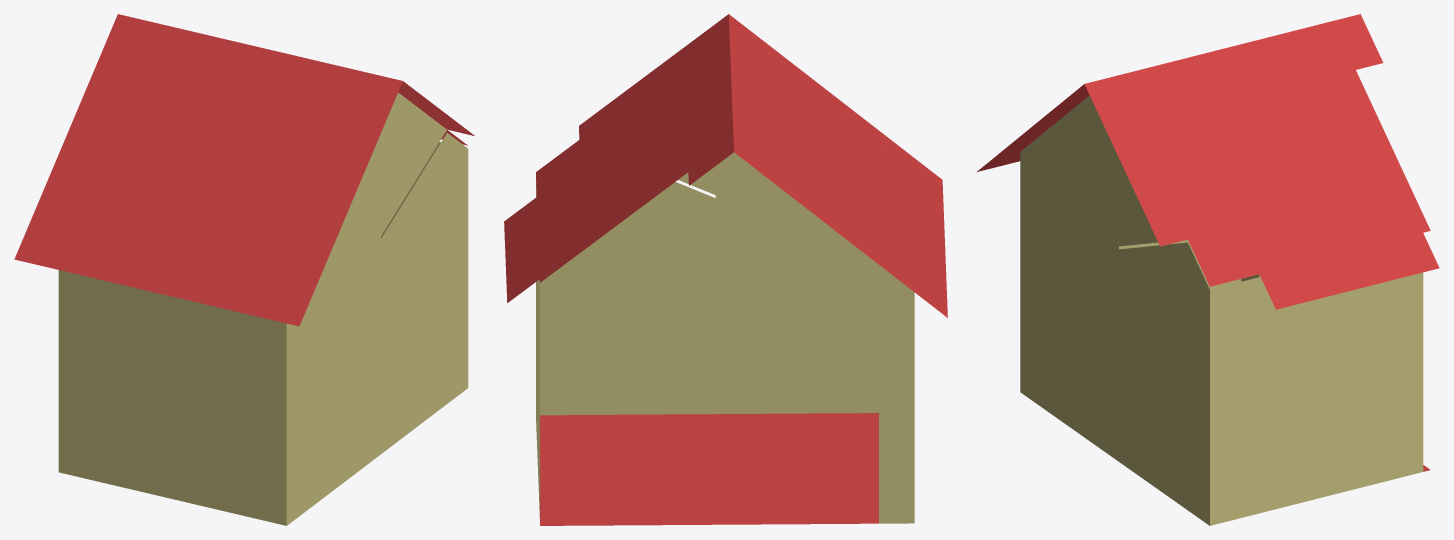
The picture shows the model from 3 angles, left to right: view 1: azimuth 30°, elevation 25°; view 2: azimuth 150°, elevation 25°; view 3: azimuth 270°, elevation 25°; orthographic projection.
Size of the model in its own units: 15.3 by 14.39 by 13.02.
